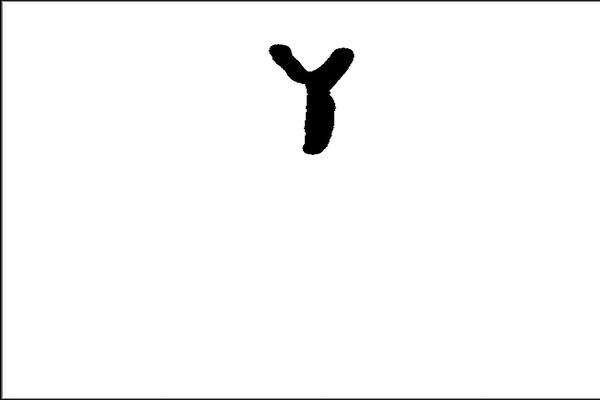Y: (254, 29, 378, 165)
